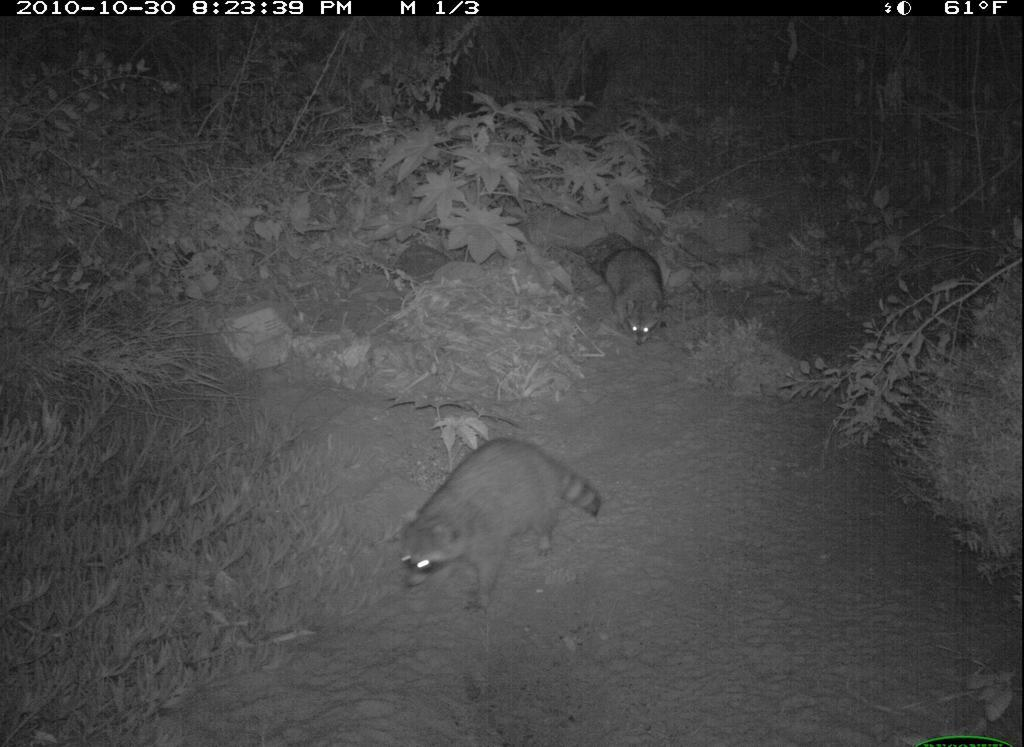raccoon: (390, 436, 607, 616), (598, 239, 675, 356)
